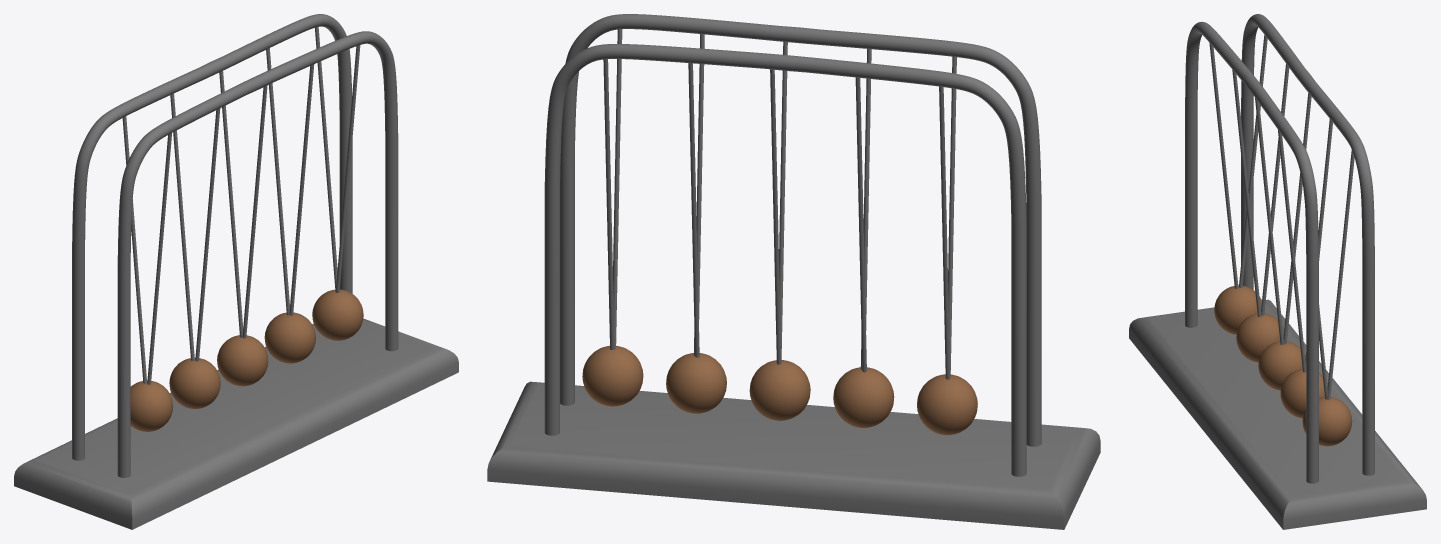
File: Decoration.fbx
The picture shows the model from 3 angles, left to right: view 1: azimuth 30°, elevation 25°; view 2: azimuth 150°, elevation 25°; view 3: azimuth 270°, elevation 25°; orthographic projection. The views are drawn at different scales.
Visible parts, largest first — view 1: Pendulum paperweight; view 2: Pendulum paperweight; view 3: Pendulum paperweight.
Boxes of the visible parts, x1,y1,x2,y2 form: Pendulum paperweight: [14, 14, 458, 529]; Pendulum paperweight: [487, 14, 1100, 529]; Pendulum paperweight: [1129, 14, 1426, 529].
Bounding box in the file's own units: 45.57 × 34.73 × 27.02.
